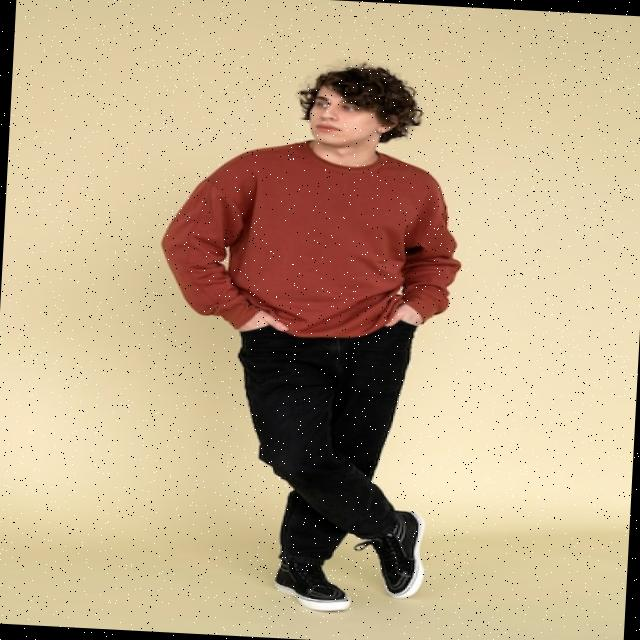Person: (144, 56, 471, 617)
